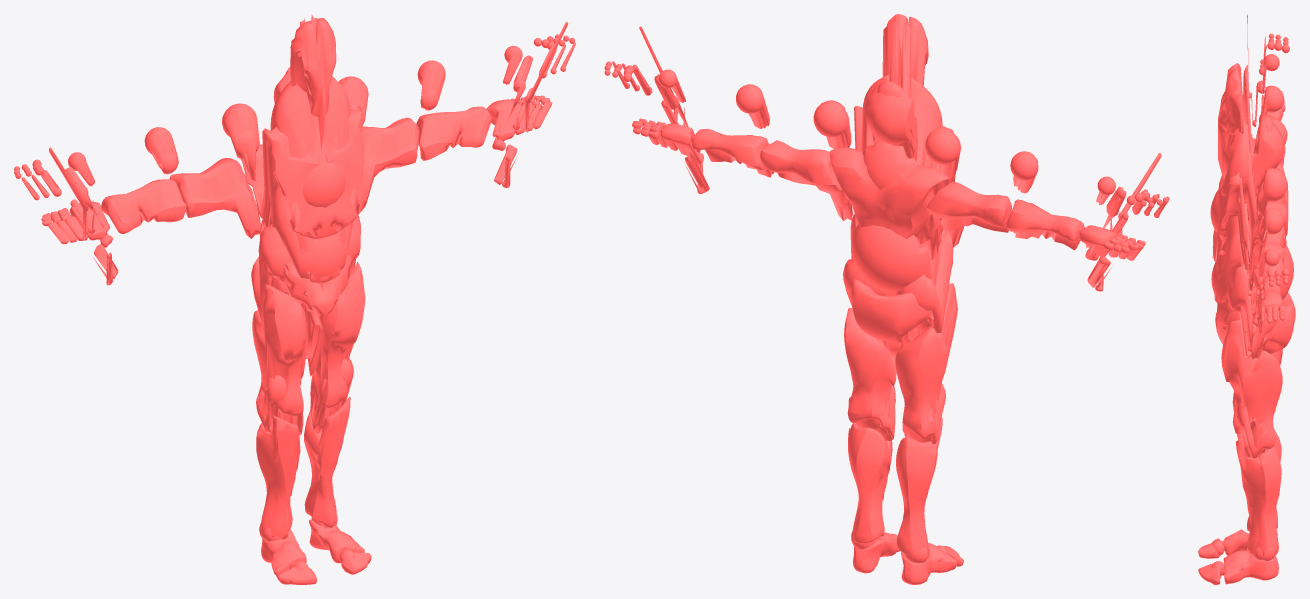
Rendered from test-muscular.glb.
3 views of the same model, side by side, from view 1: azimuth 30°, elevation 25°; view 2: azimuth 150°, elevation 25°; view 3: azimuth 270°, elevation 25° (orthographic). The views are drawn at different scales.
Parts seen in each view (by area): view 1: Alpha_Surface, Alpha_Joints; view 2: Alpha_Surface, Alpha_Joints; view 3: Alpha_Surface, Alpha_Joints.
Part boxes in pixels (x1,y1,x2,y2): Alpha_Surface: [41, 18, 552, 584]; Alpha_Joints: [14, 14, 575, 570]; Alpha_Surface: [632, 14, 1145, 584]; Alpha_Joints: [604, 19, 1169, 562]; Alpha_Surface: [1198, 63, 1295, 584]; Alpha_Joints: [1210, 14, 1293, 575].
Size of the model in its own units: 2.21 by 2.07 by 0.3634.
